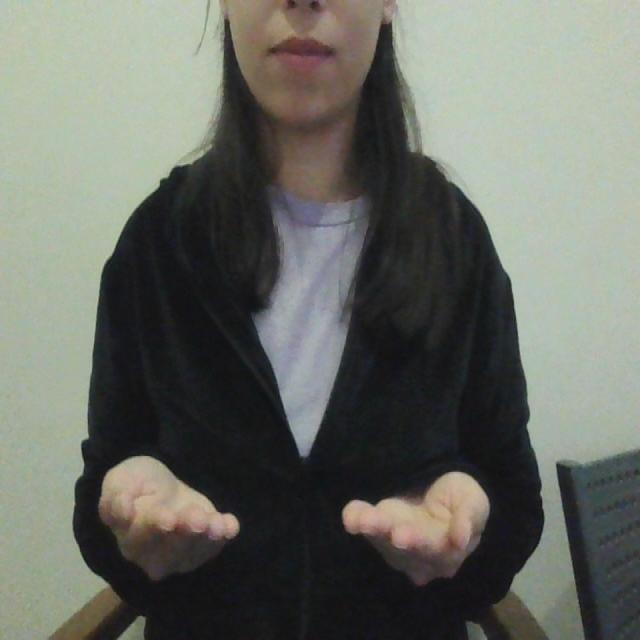Evet: (95, 450, 495, 594)
